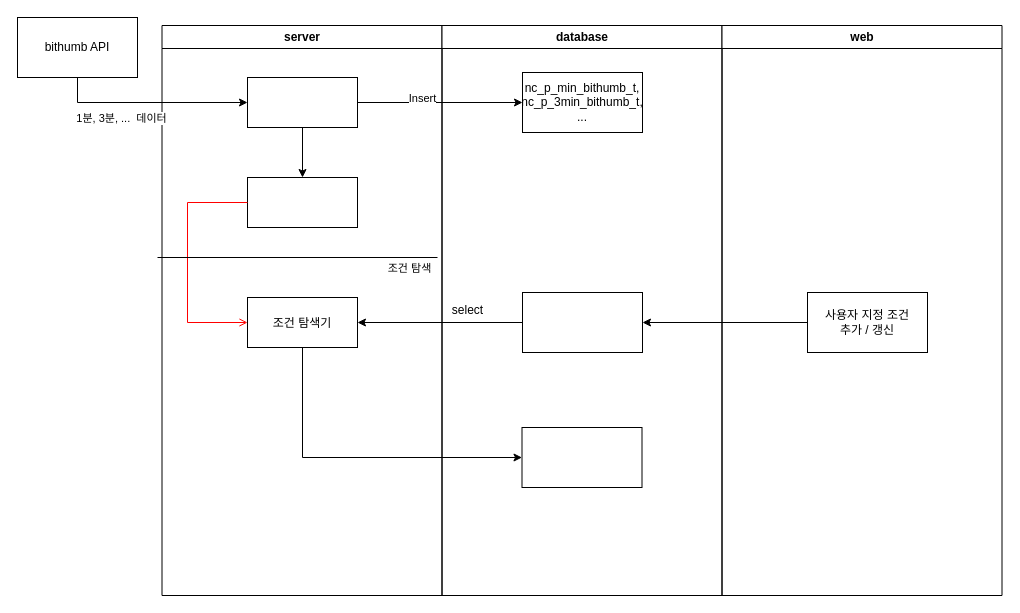
The diagram is 1020 pixels wide and 613 high, and some of its shapes have lost their labels. The centre of each missing label's shape, as x and y in pixels:
csv 파일 저장: pixel 302 202
검색 결과 저장: pixel 581 457
수집기: pixel 302 102
조건 테이블: pixel 582 322
